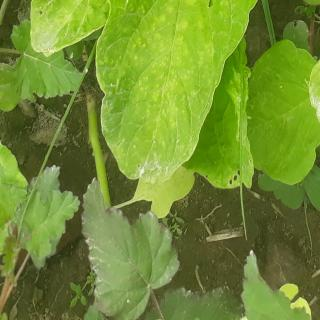virus_keriting: (228, 61, 254, 160)
